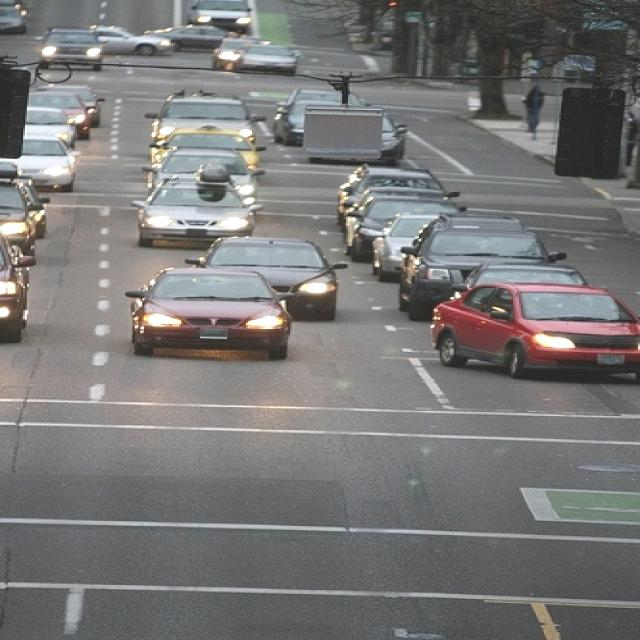Carro Prata: (140, 186, 244, 245)
Carro Preto: (199, 235, 347, 318), (426, 232, 549, 314), (349, 198, 463, 245), (463, 262, 590, 291)
Carro Vermelho: (429, 280, 640, 383), (138, 269, 279, 357)
Van Prata: (365, 216, 531, 265)
